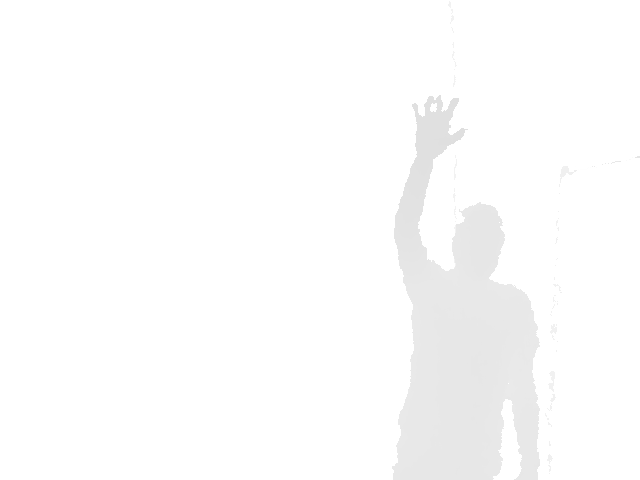hand: (411, 95, 466, 162)
head: (450, 202, 505, 281)
person: (391, 94, 541, 479)
